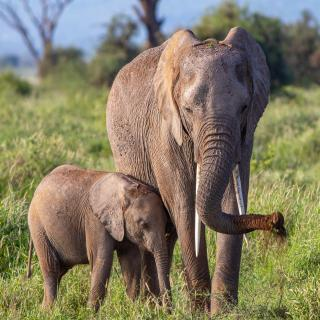Elephant: (104, 21, 287, 320), (26, 163, 180, 317)
